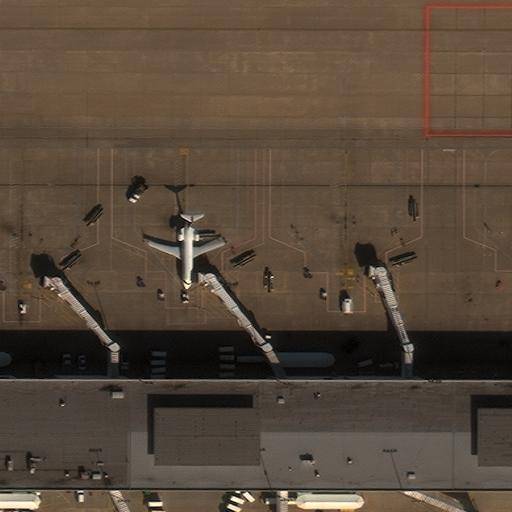Medium Civil Transport: (148, 214, 225, 287)
